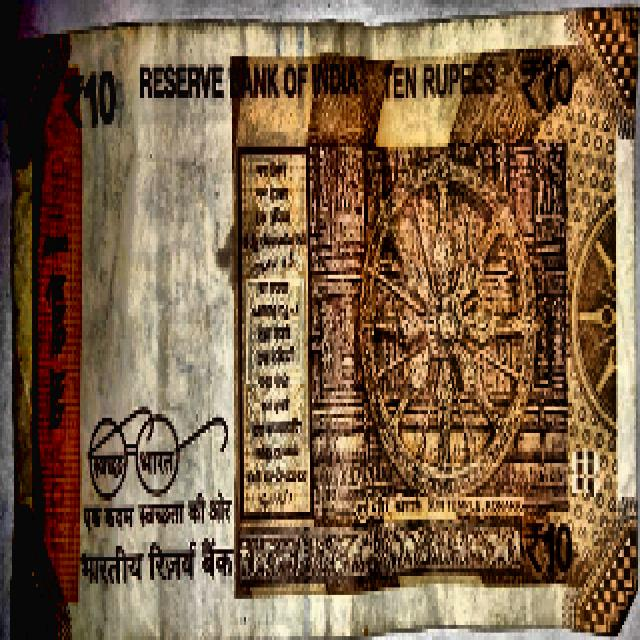-10-: (14, 25, 640, 631)
